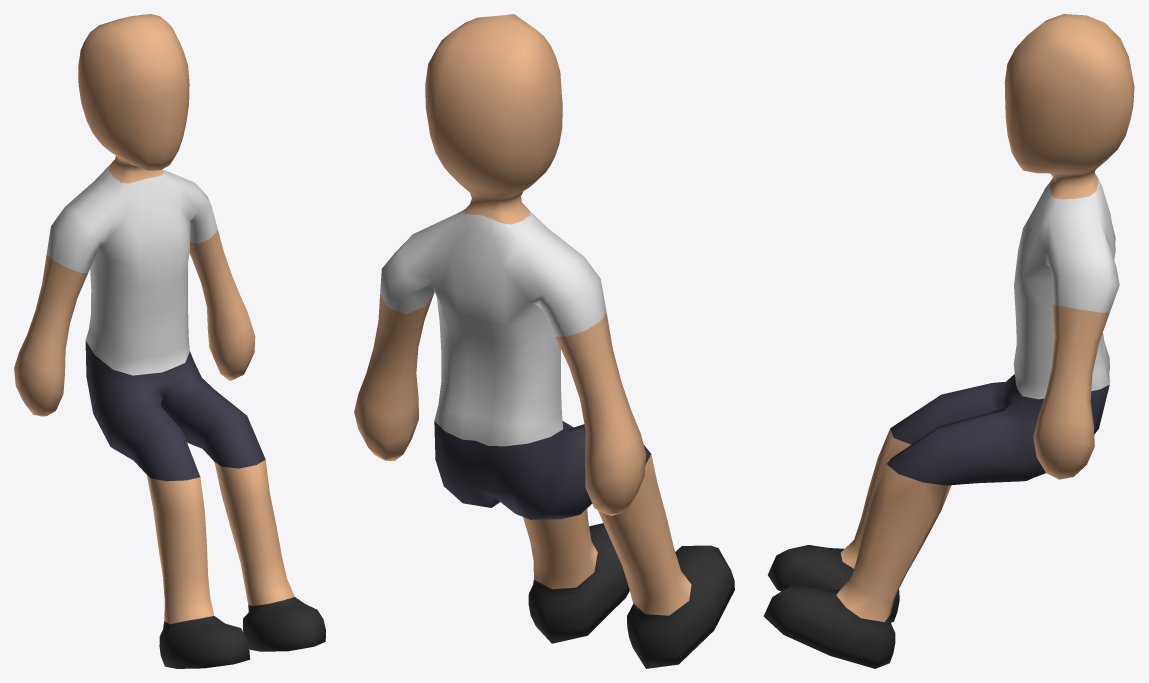
File: Next_NPCsitting.fbx
The picture shows the model from 3 angles, left to right: view 1: azimuth 30°, elevation 25°; view 2: azimuth 150°, elevation 25°; view 3: azimuth 270°, elevation 25°; orthographic projection. The views are drawn at different scales.
Parts seen in each view (by area): view 1: Bob; view 2: Bob; view 3: Bob.
Part boxes in pixels (<box>): Bob: <box>14,14,325,668</box>; Bob: <box>354,14,734,668</box>; Bob: <box>763,14,1134,668</box>.
Size of the model in its own units: 420 by 1018 by 549.
